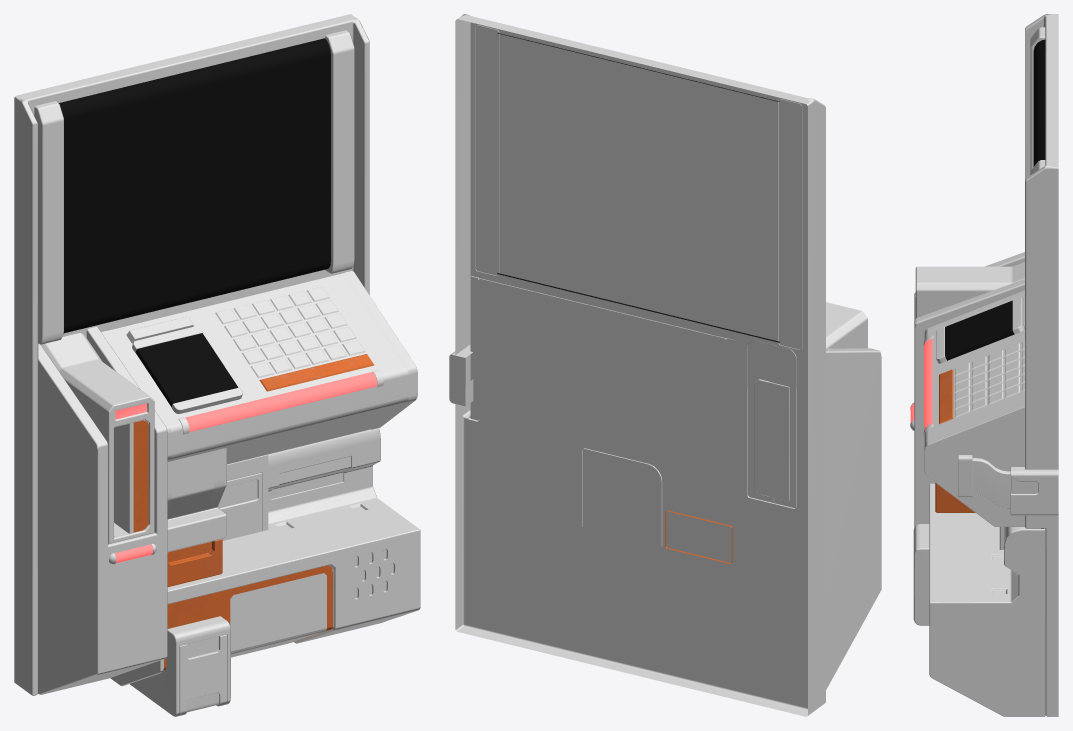
Rendered from panel.fbx.
3 views of the same model, side by side, from view 1: azimuth 30°, elevation 25°; view 2: azimuth 150°, elevation 25°; view 3: azimuth 270°, elevation 25° (orthographic). The views are drawn at different scales.
Visible parts, largest first — view 1: Sphere.003, Sphere.004; view 2: Sphere.003; view 3: Sphere.003, Sphere.004.
Boxes of the visible parts, box(x1,y1,x2,y2) form: Sphere.003: box(14, 14, 420, 716); Sphere.004: box(185, 372, 377, 431); Sphere.003: box(449, 14, 881, 716); Sphere.003: box(910, 14, 1058, 716); Sphere.004: box(924, 338, 932, 429).
Size of the model in its own units: 62.93 by 103 by 25.1.
